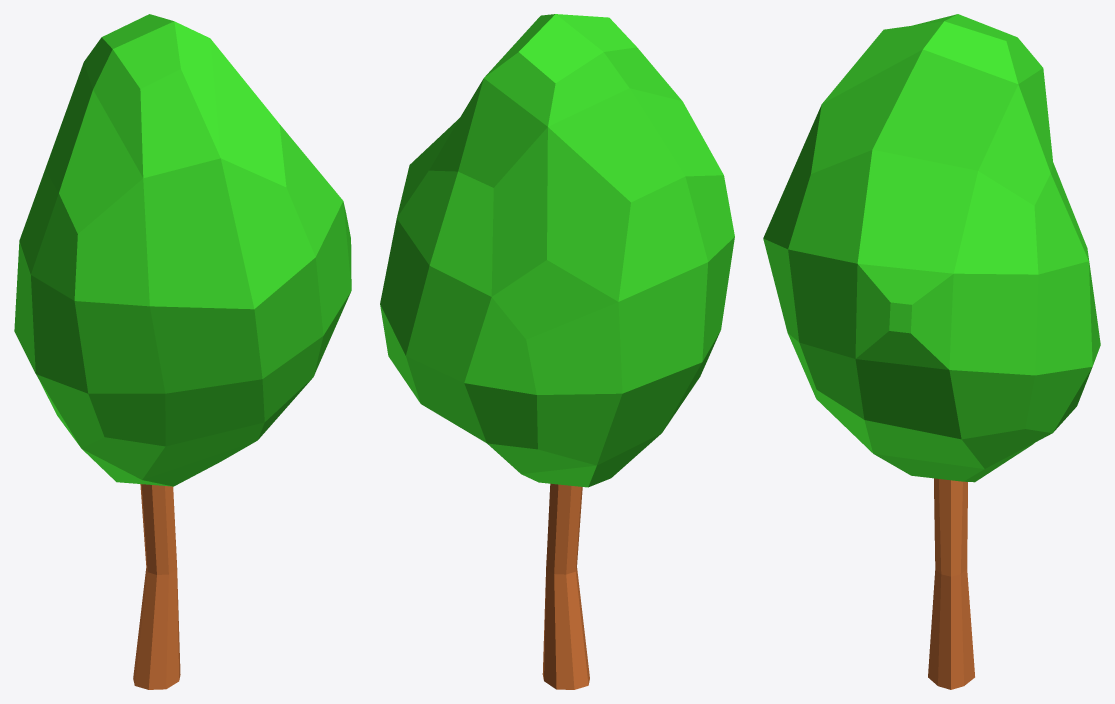
File: trees_3.fbx
The picture shows the model from 3 angles, left to right: view 1: azimuth 30°, elevation 25°; view 2: azimuth 150°, elevation 25°; view 3: azimuth 270°, elevation 25°; orthographic projection.
Visible parts, largest first — view 1: 3; view 2: 3; view 3: 3.
Part boxes in pixels (x1=…): 3: x1=14, y1=14, x2=351, y2=689; 3: x1=380, y1=14, x2=734, y2=689; 3: x1=763, y1=14, x2=1100, y2=689.
Bounding box in the file's own units: 2.84 × 5.9 × 2.72.
